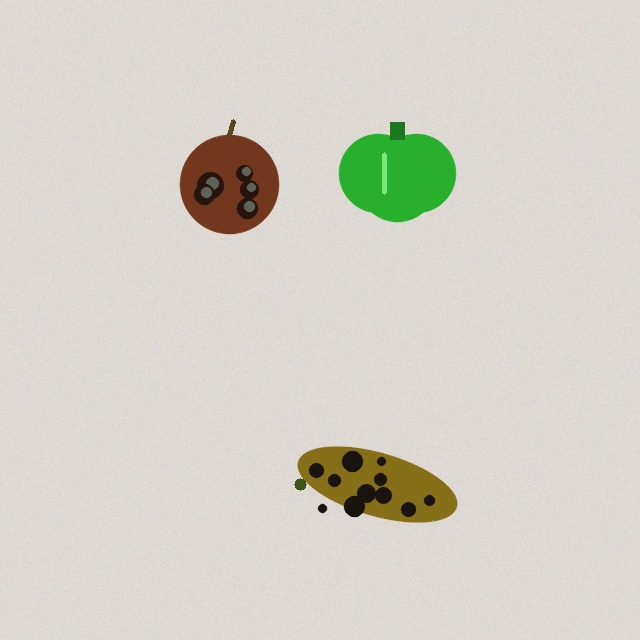Fresh bell pepper: (339, 122, 455, 221)
Rotten apple: (180, 121, 278, 233)
Rotten banana: (291, 446, 463, 522)
